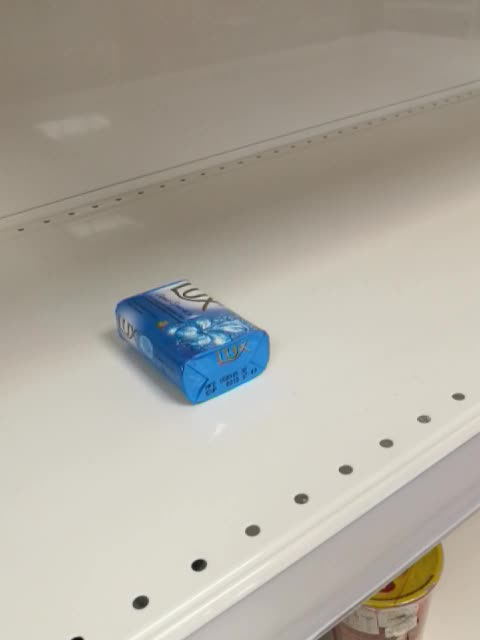soap: (114, 278, 273, 407)
